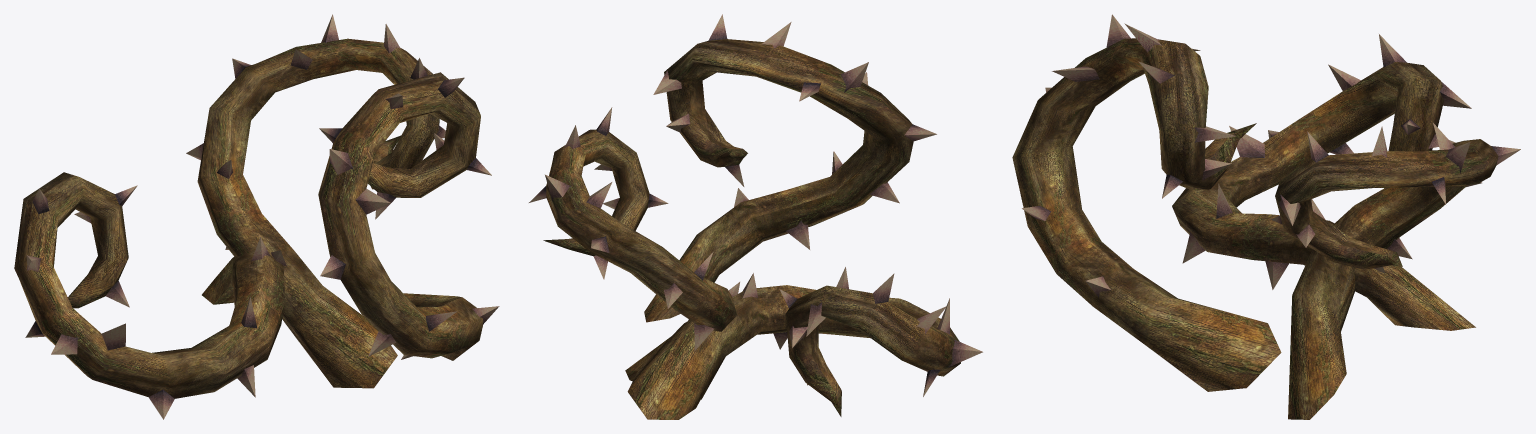
The model's file is obj_mtthund_thorn05b.fbx.
3 views of the same model, side by side, from view 1: azimuth 30°, elevation 25°; view 2: azimuth 150°, elevation 25°; view 3: azimuth 270°, elevation 25° (orthographic). The views are drawn at different scales.
Parts seen in each view (by area): view 1: obj_mtthund_thorn05B01, obj_mtthund_thorn05b, obj_mtthund_thorn05b00; view 2: obj_mtthund_thorn05b00, obj_mtthund_thorn05B01, obj_mtthund_thorn05b; view 3: obj_mtthund_thorn05b00, obj_mtthund_thorn05b, obj_mtthund_thorn05B01.
Boxes of the visible parts, x1=… form: obj_mtthund_thorn05B01: x1=14, y1=172, x2=284, y2=419; obj_mtthund_thorn05b: x1=186, y1=14, x2=445, y2=388; obj_mtthund_thorn05b00: x1=318, y1=72, x2=499, y2=360; obj_mtthund_thorn05b00: x1=644, y1=14, x2=936, y2=322; obj_mtthund_thorn05B01: x1=627, y1=267, x2=982, y2=419; obj_mtthund_thorn05b: x1=529, y1=107, x2=739, y2=399; obj_mtthund_thorn05b00: x1=1012, y1=14, x2=1281, y2=391; obj_mtthund_thorn05b: x1=1271, y1=123, x2=1520, y2=419; obj_mtthund_thorn05B01: x1=1172, y1=34, x2=1475, y2=330.
Size of the model in its own units: 12.98 by 10.82 by 13.48.
